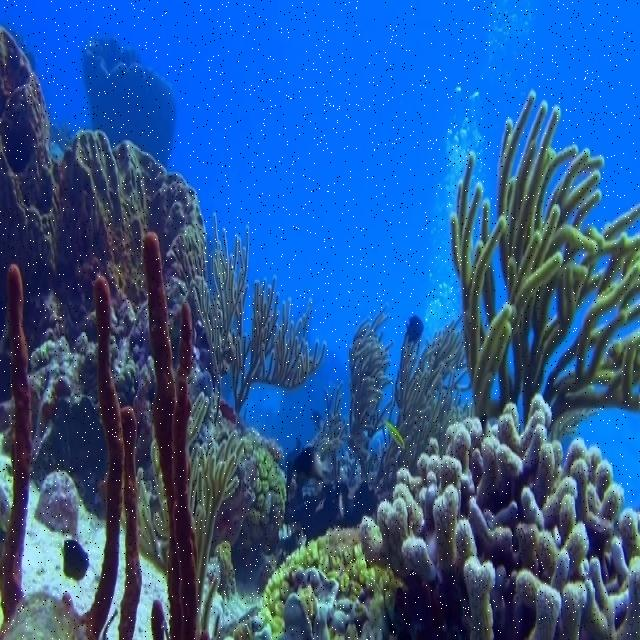fish: (405, 315, 425, 342)
reefs: (361, 394, 639, 638), (450, 89, 639, 434), (192, 213, 327, 425), (64, 276, 142, 639), (137, 393, 245, 639), (143, 232, 206, 638), (259, 529, 408, 639), (384, 316, 474, 476), (3, 263, 32, 625), (349, 302, 395, 445)
sea-floor: (1, 27, 209, 320)
